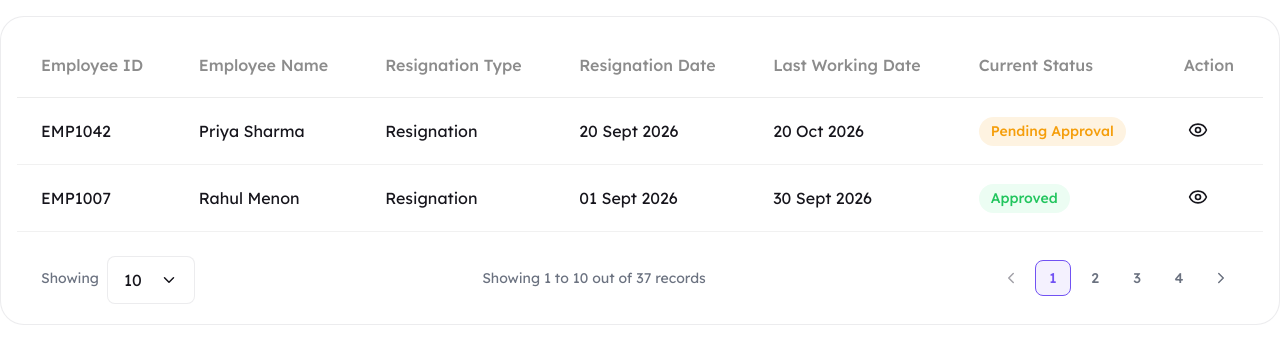
Test: SeparationsDashboard › pagination › fetches the next page when the user pages
Step 1. Click the button named "Next page" → [1221, 278], box [1203,260,1239,296]
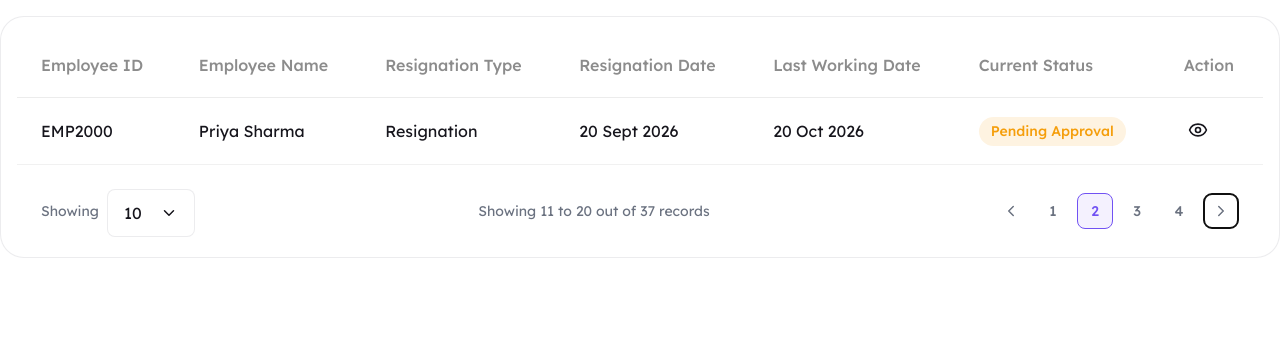
Check: the cell "EMP2000" is shown, box [17,98,175,164]
